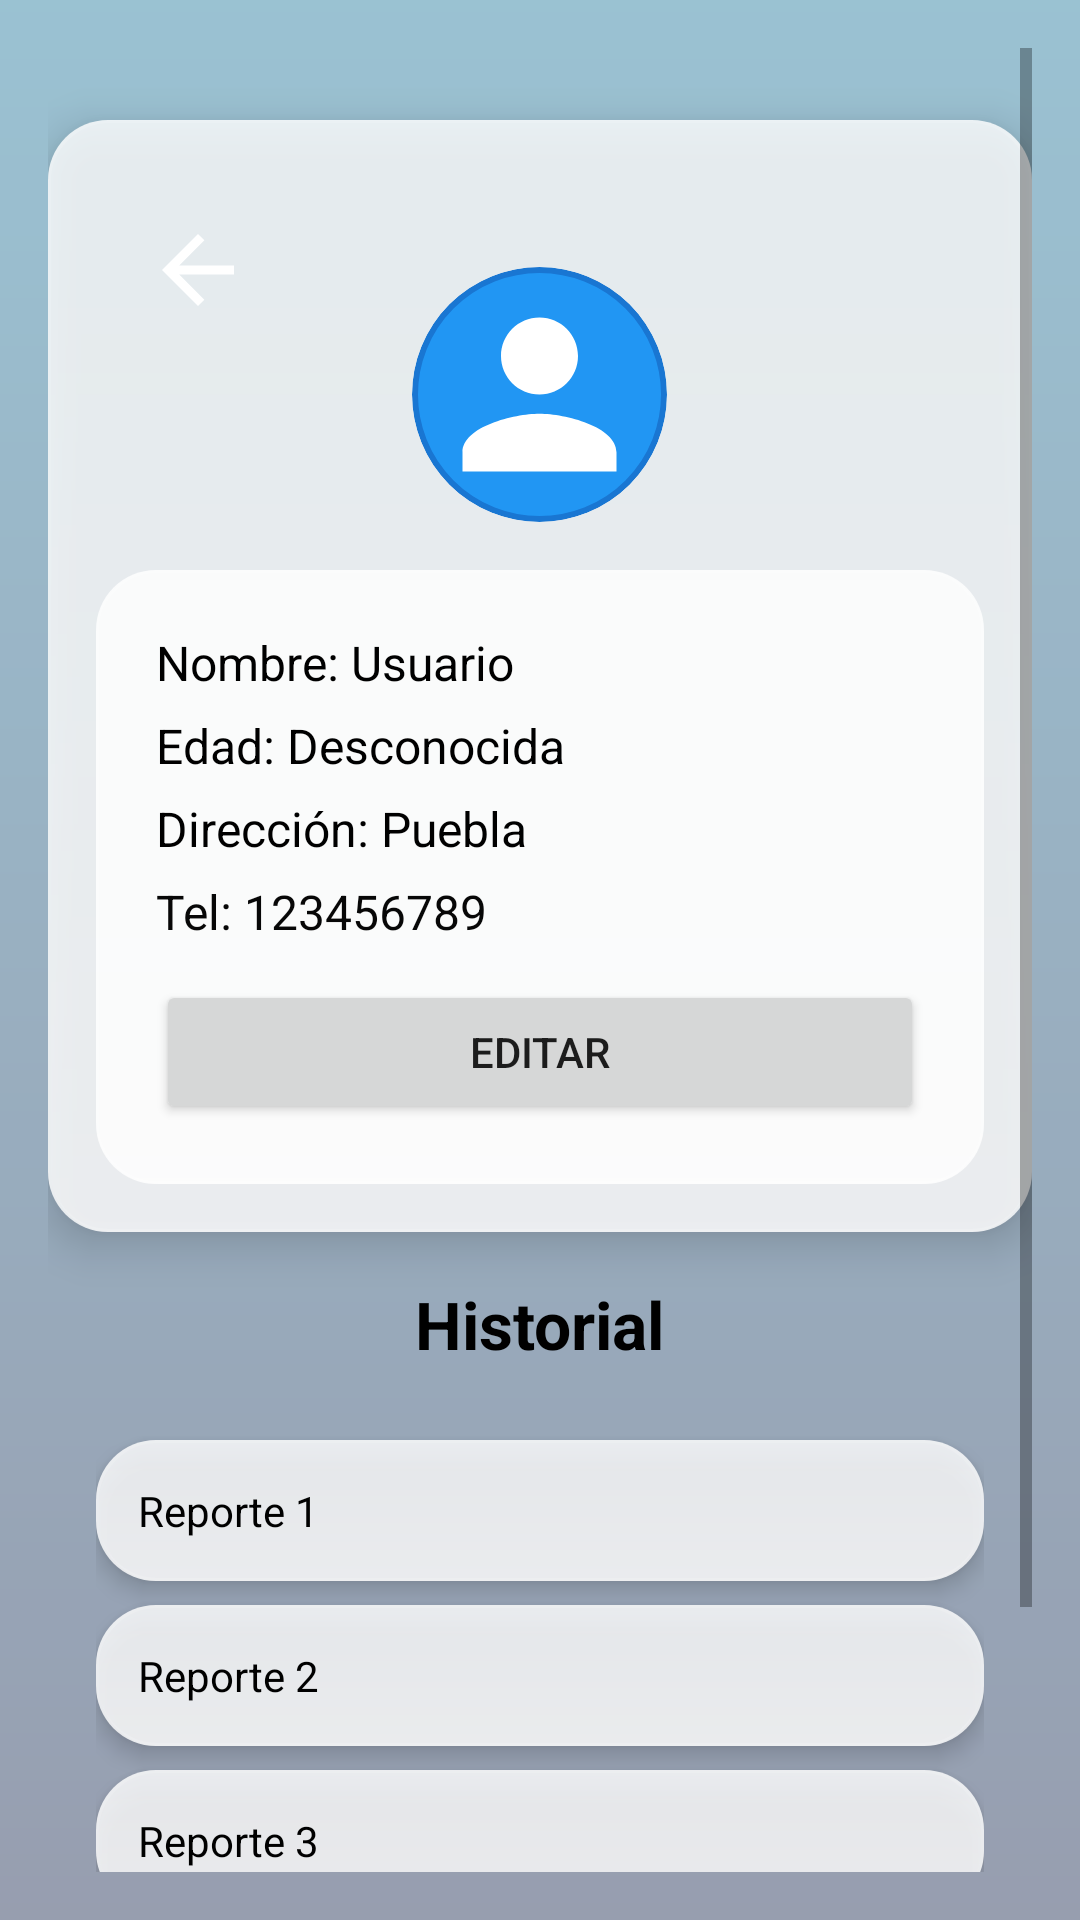

Icons on this 1080 x 1920 Android screen, each with its box as (x1, y1, x2, y2):
Imagen de perfil: (412, 267, 667, 522)
Regresar: (163, 235, 234, 305)
